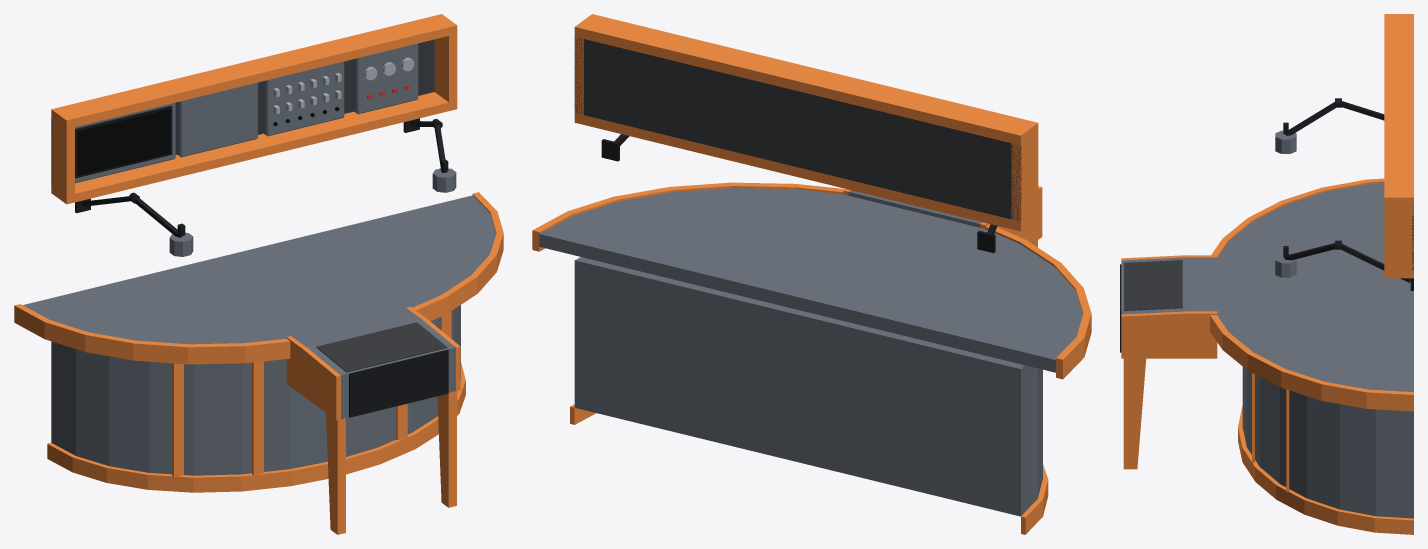
File: map_table_body.glb
3 views of the same model, side by side, from view 1: azimuth 30°, elevation 25°; view 2: azimuth 150°, elevation 25°; view 3: azimuth 270°, elevation 25° (orthographic). The views are drawn at different scales.
Parts seen in each view (by area): view 1: MapTableBody; view 2: MapTableBody; view 3: MapTableBody.
Part boxes in pixels (bbox=[...]): MapTableBody: bbox=[14, 14, 503, 534]; MapTableBody: bbox=[532, 14, 1091, 534]; MapTableBody: bbox=[1120, 14, 1413, 534].
Bounding box in the file's own units: 2.26 × 1.62 × 1.29.
